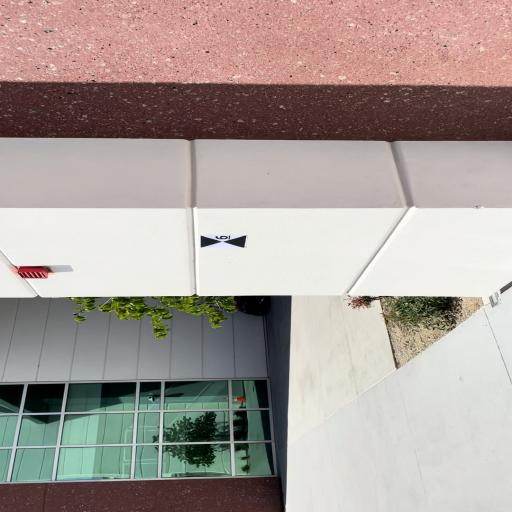target6: (200, 234, 248, 249)
